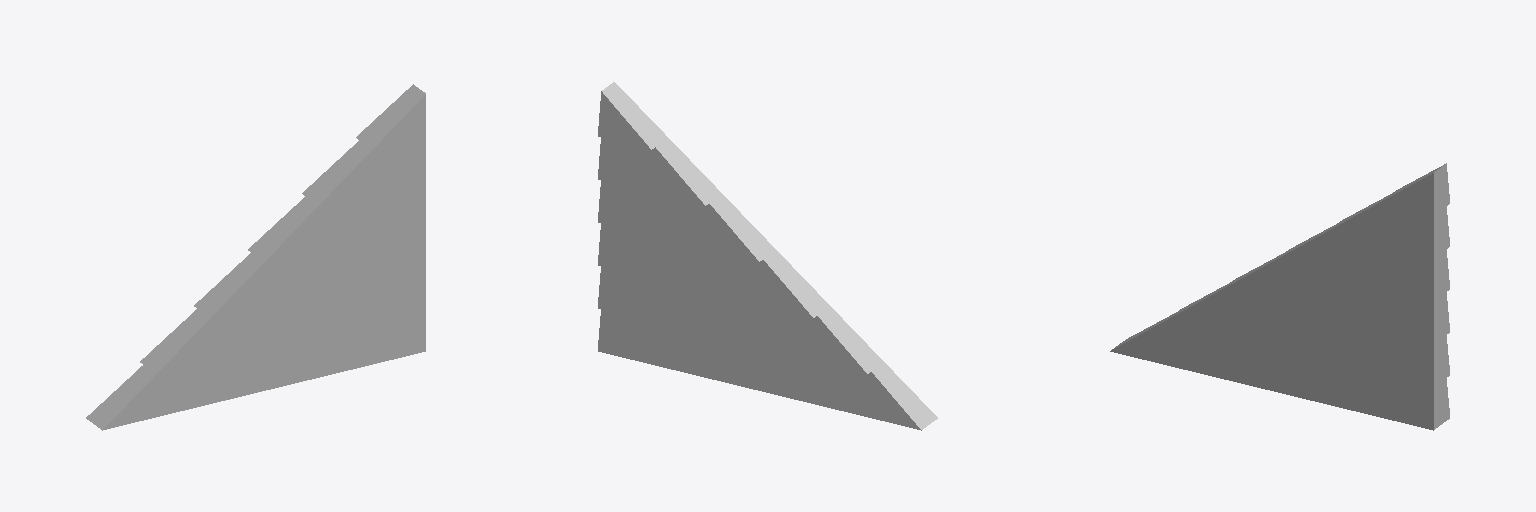
Rendered from cabinSide.obj.
The picture shows the model from 3 angles: view 1: azimuth 30°, elevation 25°; view 2: azimuth 150°, elevation 25°; view 3: azimuth 330°, elevation 25°; orthographic projection.
Parts seen in each view (by area): view 1: cabinSide; view 2: cabinSide; view 3: cabinSide.
Part boxes in pixels (left/top/right/bottom): cabinSide: left=86, top=84, right=425, bottom=430; cabinSide: left=598, top=82, right=937, bottom=430; cabinSide: left=1110, top=163, right=1449, bottom=430.
Size of the model in its own units: 1 by 0.76 by 0.0902.